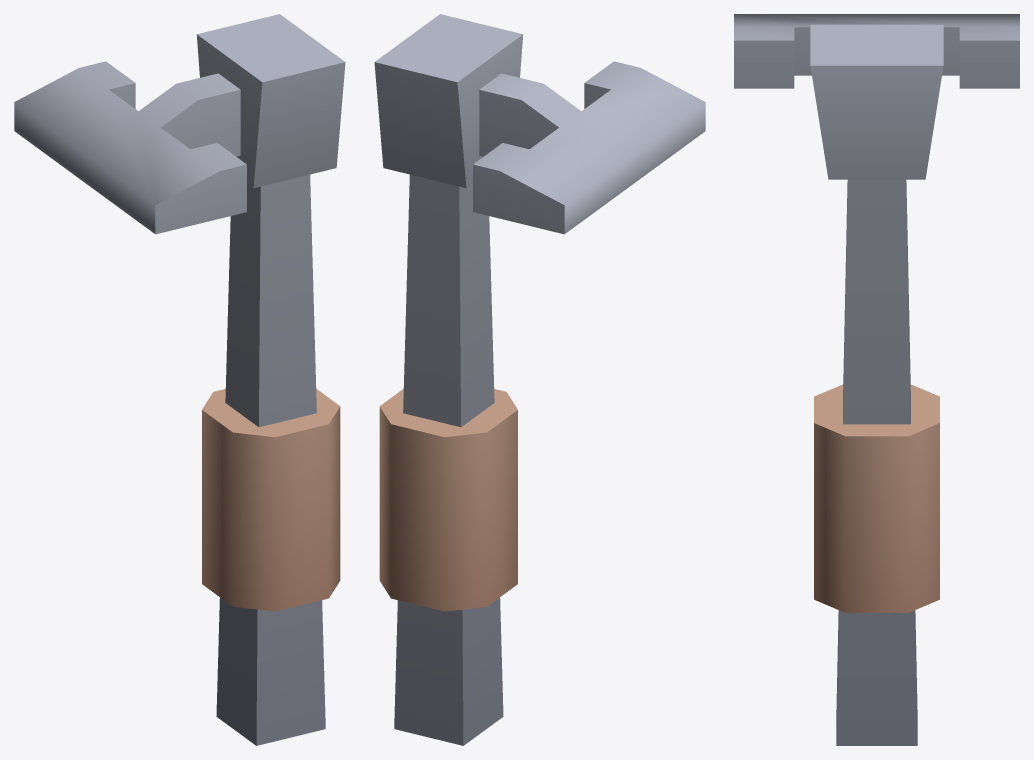
File: tool-hoe-upgraded.glb
The picture shows the model from 3 angles, left to right: view 1: azimuth 30°, elevation 25°; view 2: azimuth 150°, elevation 25°; view 3: azimuth 270°, elevation 25°; orthographic projection.
Visible parts, largest first — view 1: tool-hoe-upgraded; view 2: tool-hoe-upgraded; view 3: tool-hoe-upgraded.
Part boxes in pixels (x1,y1,x2,y2): tool-hoe-upgraded: (14,14,345,745); tool-hoe-upgraded: (374,14,705,745); tool-hoe-upgraded: (734,14,1019,745).
Size of the model in its own units: 0.0893 by 0.24 by 0.0909.
